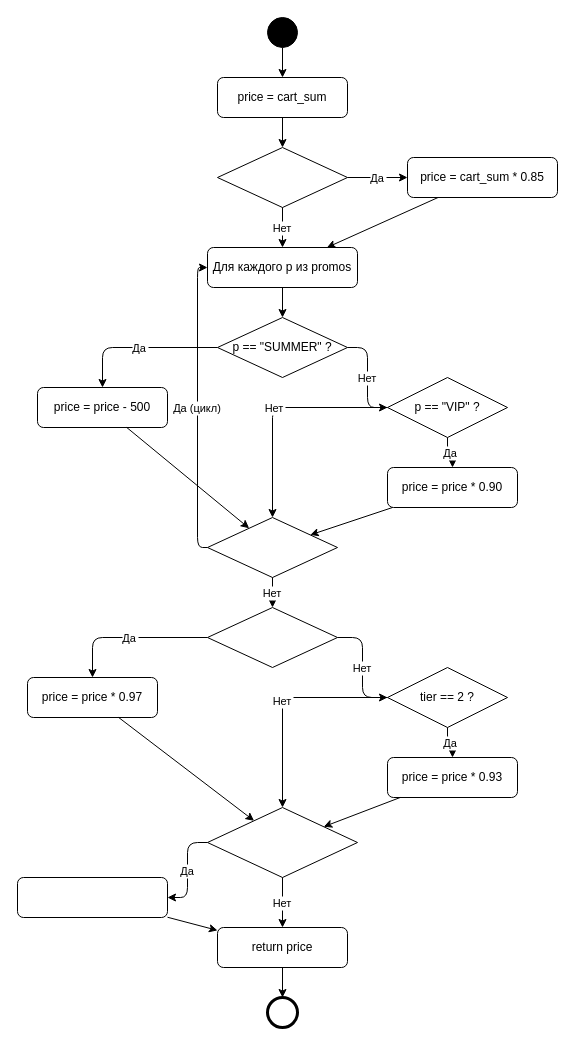
The diagram is 575 pixels wide and 1046 high, and some of its shapes have lost their labels. Here are the shapes that lost their labels. From the top down, the centre of each, then its label:
At [282,177]: "cart_sum > 15000 ?".
At [272,547]: "Есть ещё p?".
At [272,637]: "tier == 1 ?".
At [282,842]: "price < cart_sum * 0.70 ?".
At [92,897]: "price = cart_sum * 0.70".
